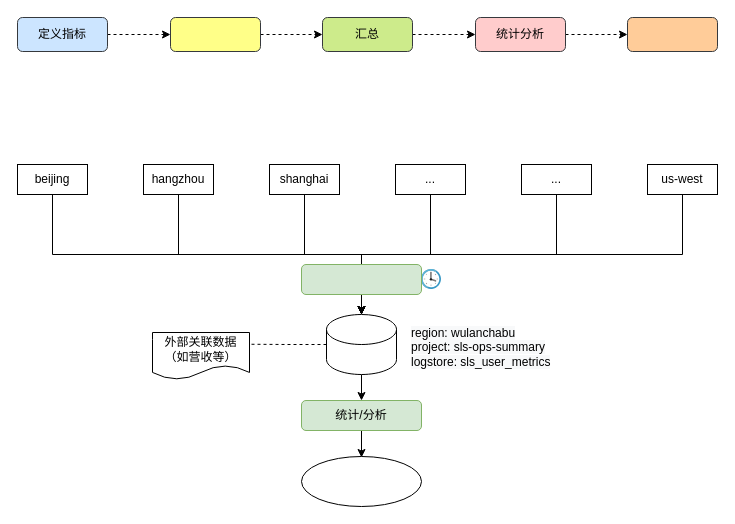
The diagram is 735 pixels wide and 524 high, and some of its shapes have lost their labels. Each missing label, with the centre of its shape:
中心库: the point at 361,344
刻画用户画像: the point at 672,34
用户画像: the point at 361,481
采集: the point at 215,34
采集指标: the point at 361,279
